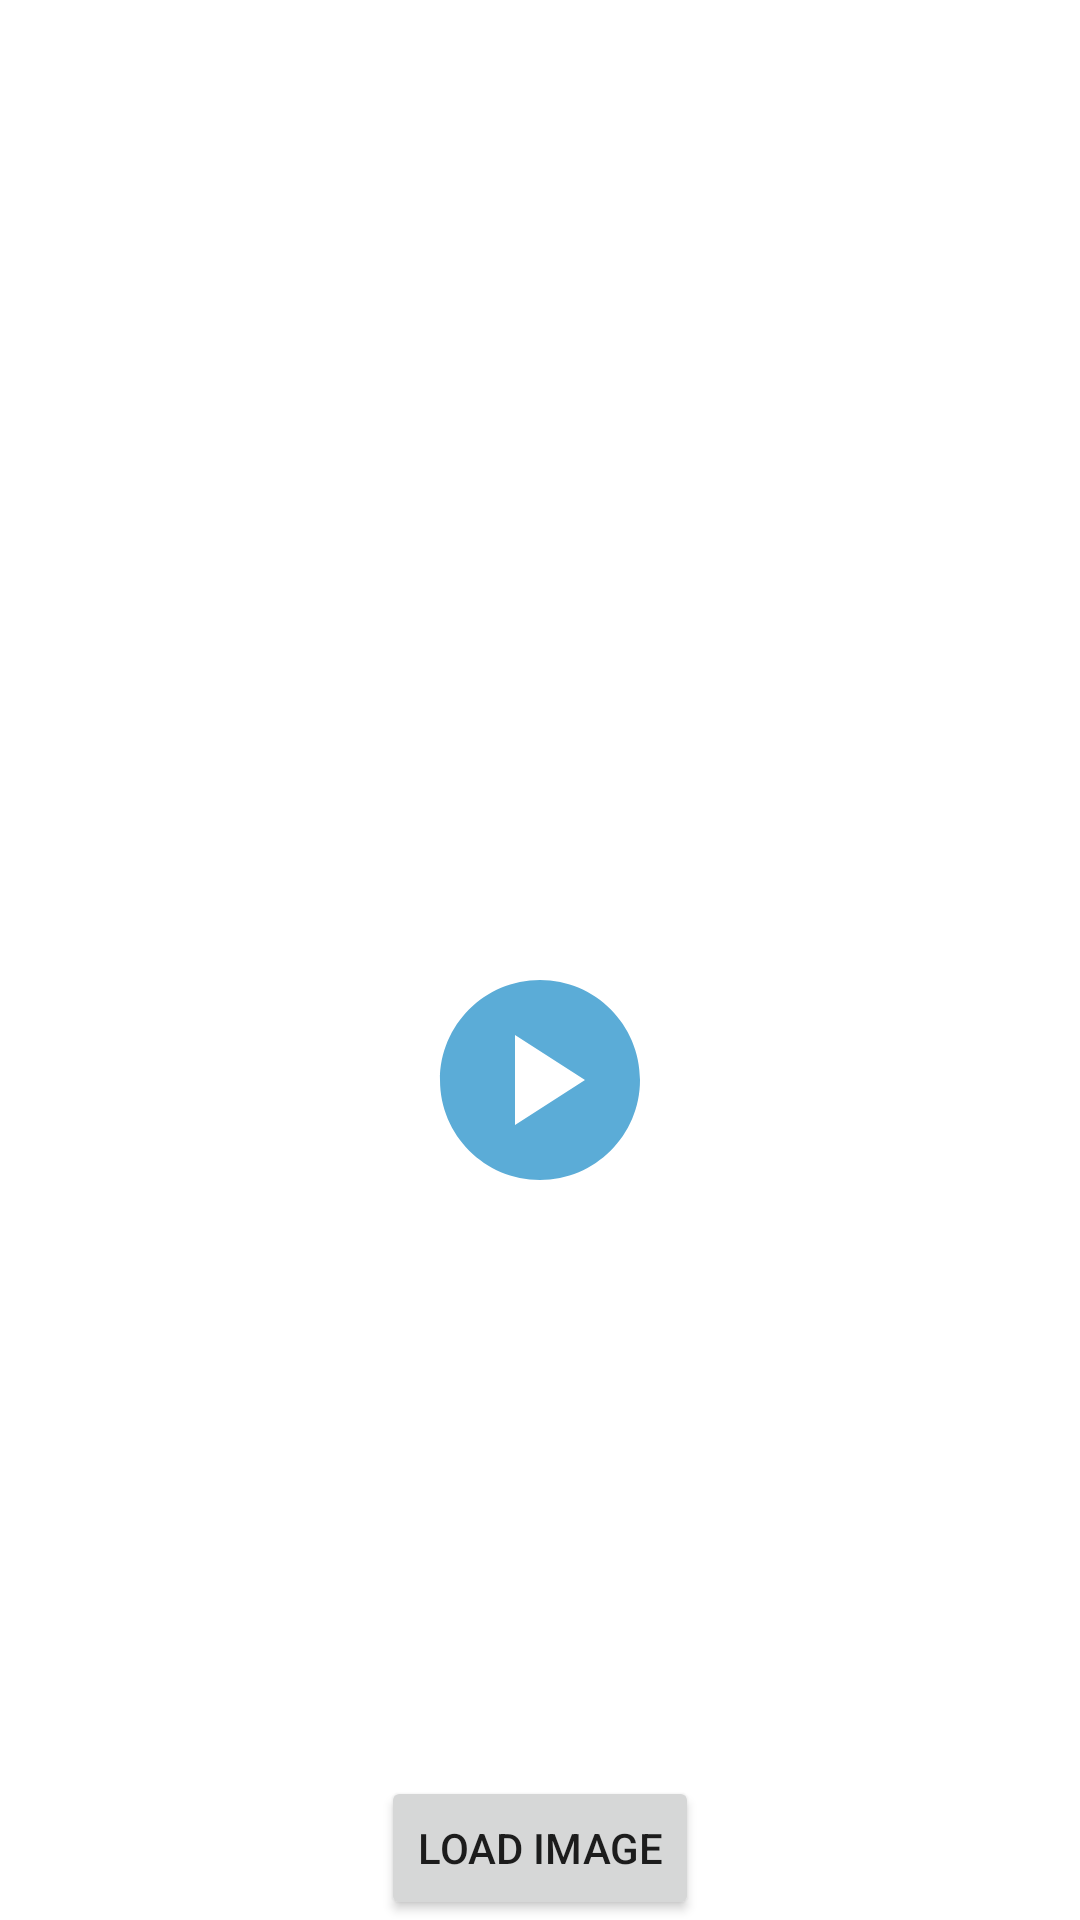

Screen size 1080*1920. Icon name, then its center in pixels as (x,y):
play circle: (540,1080)
